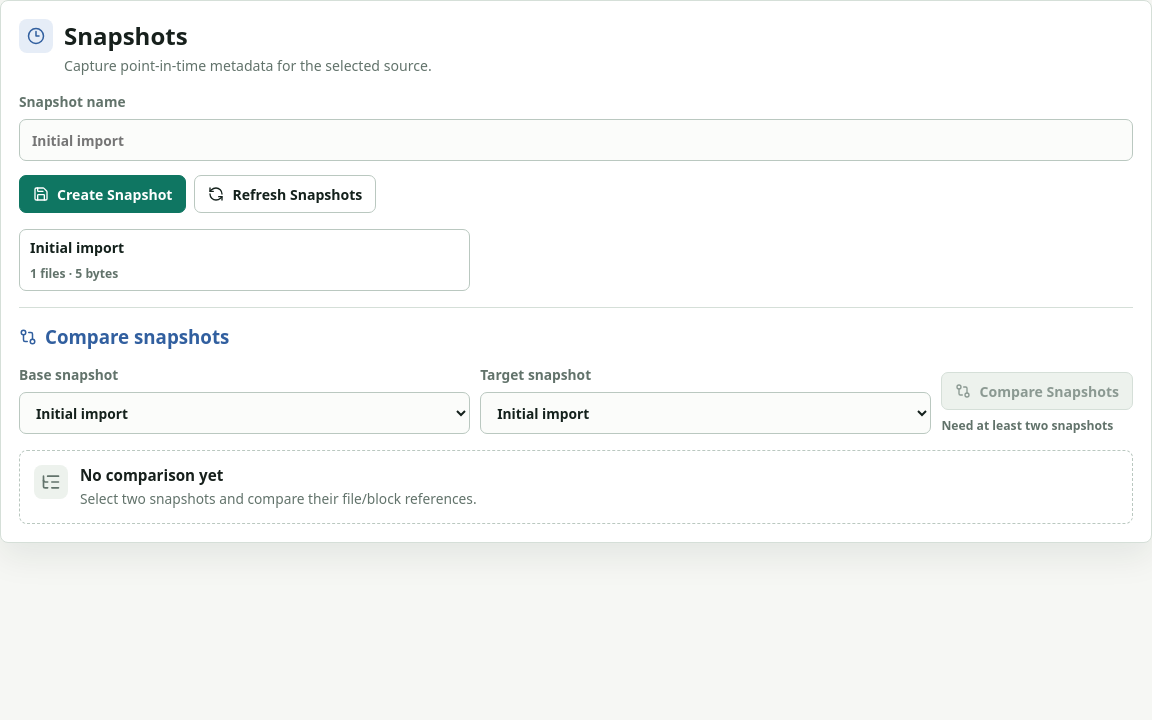
it: SnapshotPanel › restores the selected snapshot into a chosen target directory
The width and height of the screenshot is (1152, 720).
Click the button "Initial import 1 files · 5 bytes".
click(77, 248)  # box [19,229,470,291]
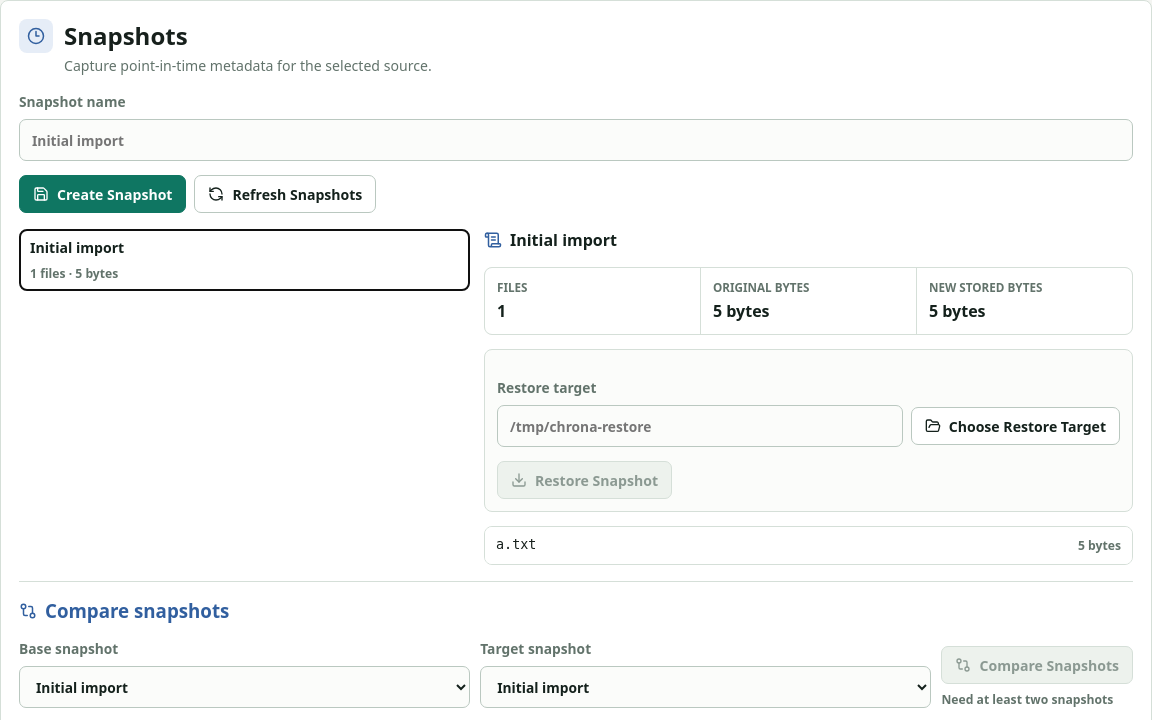
Type "/tmp/restore-target" into the field labelled "Restore target".
click(700, 426); type("/tmp/restore-target")  # box [497,405,903,447]
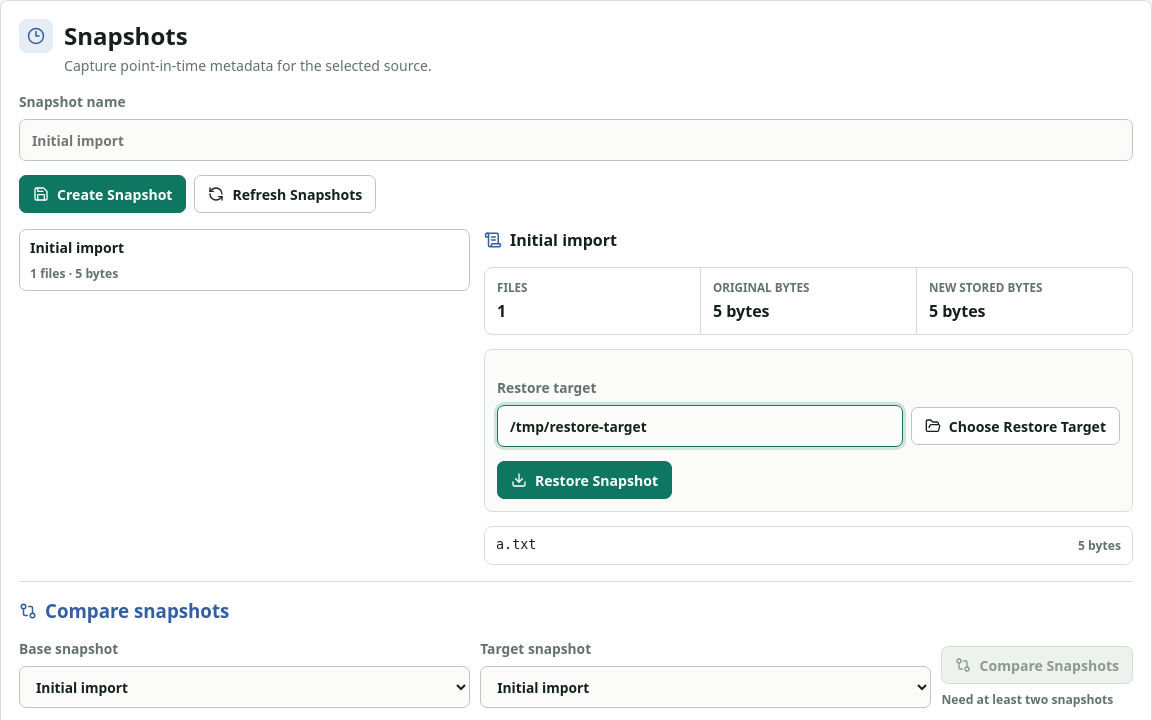
Expected: the button "Restore Snapshot" is enabled
Click the button "Restore Snapshot".
click(584, 480)  # box [497,461,672,499]
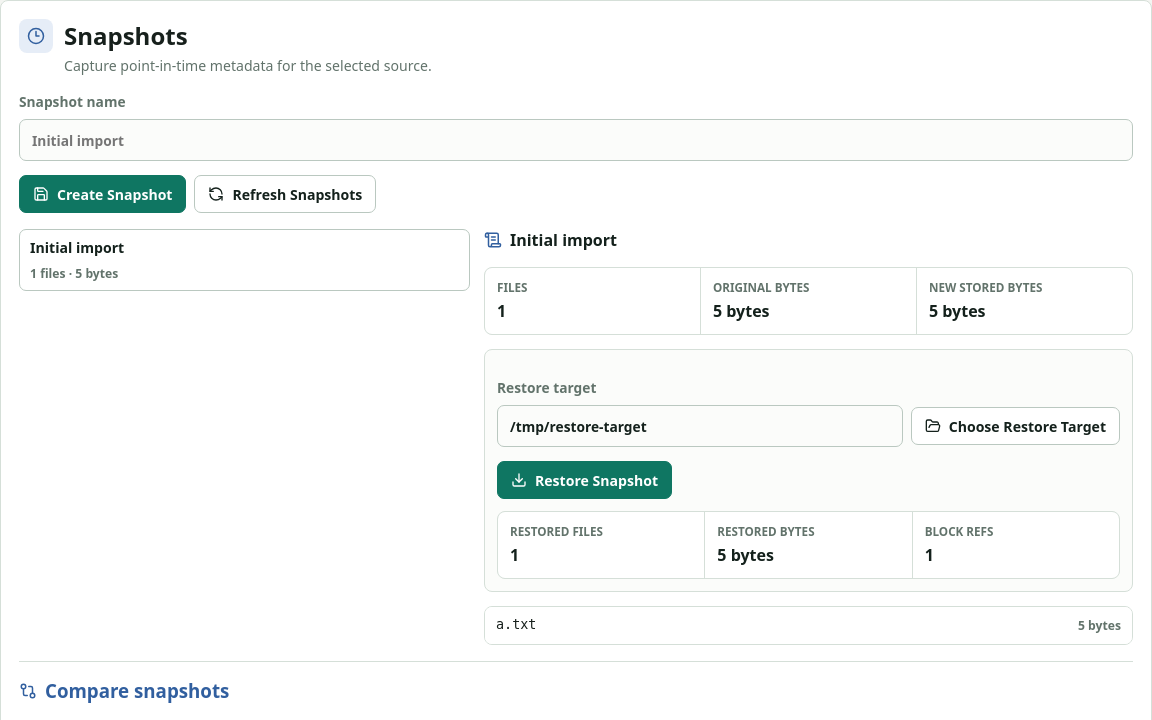
Expected: the text "Restored files" is shown, [510,524,603,539]
Expected: the text "Restored bytes" is shown, [717,524,815,539]
